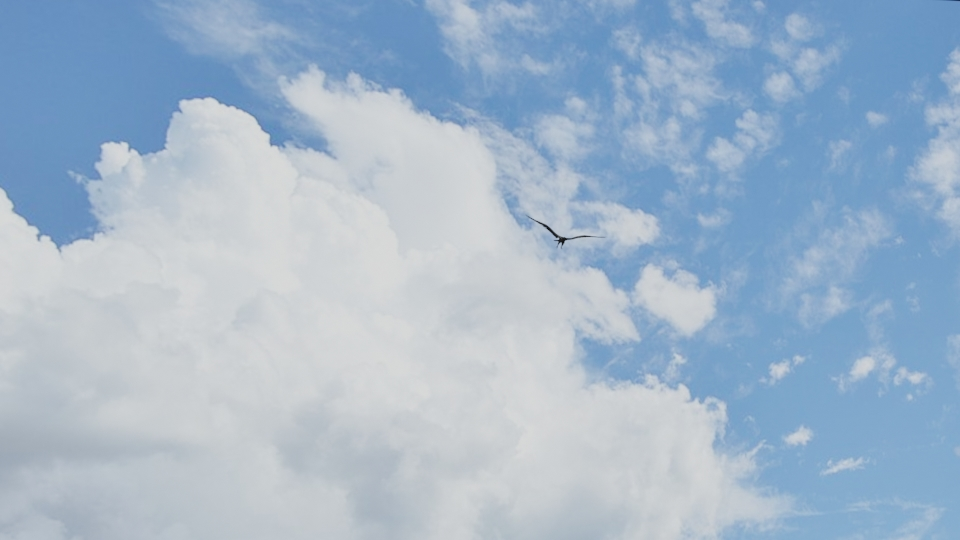bird: (525, 211, 604, 248)
